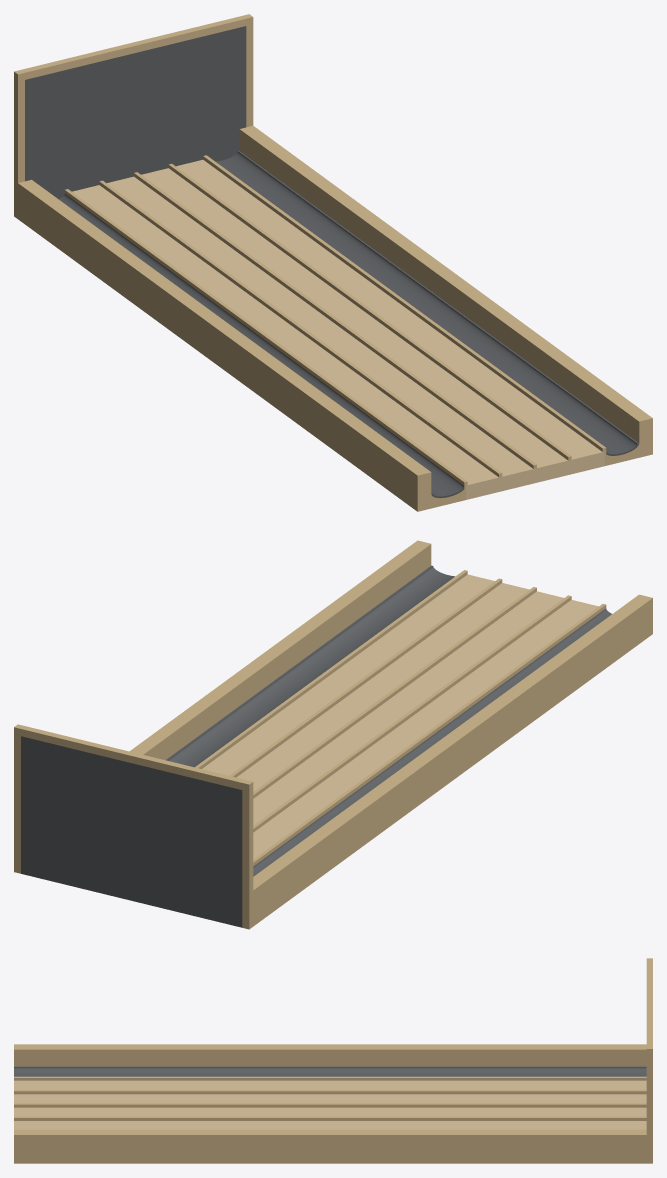
File: bowling_alley.glb
3 renders of one model, top to bottom at view 1: azimuth 30°, elevation 25°; view 2: azimuth 150°, elevation 25°; view 3: azimuth 270°, elevation 25°, orthographic. The views are drawn at different scales.
Parts seen in each view (by area): view 1: Mesh_Mesh_head_geo.001_lambert2SG.001; view 2: Mesh_Mesh_head_geo.001_lambert2SG.001; view 3: Mesh_Mesh_head_geo.001_lambert2SG.001.
Part boxes in pixels (x1,y1,x2,y2): Mesh_Mesh_head_geo.001_lambert2SG.001: (14,14,652,511); Mesh_Mesh_head_geo.001_lambert2SG.001: (14,540,652,929); Mesh_Mesh_head_geo.001_lambert2SG.001: (14,958,652,1163).
Size of the model in its own units: 34 by 20 by 101.
